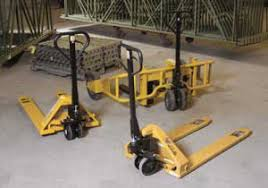Pallet Jack: (117, 43, 253, 178), (84, 10, 217, 112), (18, 31, 103, 141)
